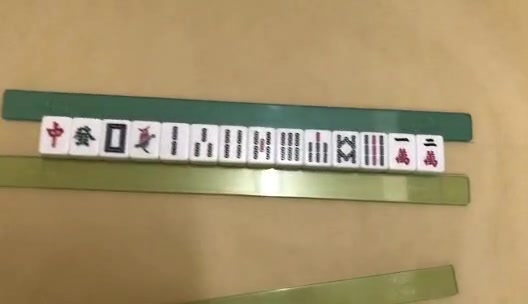1m: (393, 137, 412, 167)
1s: (134, 126, 155, 154)
2m: (424, 138, 439, 168)
2s: (171, 124, 181, 156)
3s: (195, 127, 213, 157)
4s: (224, 129, 244, 159)
5s: (253, 131, 271, 160)
5z: (106, 123, 126, 154)
6s: (280, 133, 300, 160)
6z: (73, 124, 95, 147)
7s: (307, 133, 329, 165)
7z: (48, 121, 63, 148)
8s: (337, 133, 356, 164)
9s: (363, 135, 385, 166)
